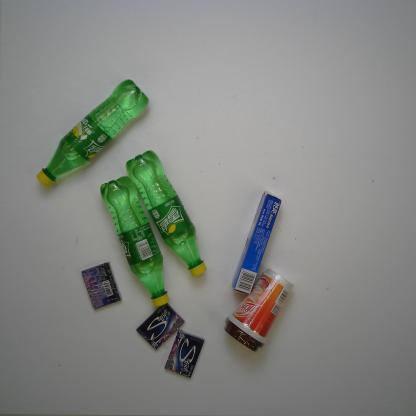Drink: (34, 78, 152, 192), (125, 148, 208, 281), (99, 174, 171, 310)
Gum: (136, 302, 186, 350), (162, 330, 206, 380), (82, 262, 122, 311)
Instant Drink: (224, 266, 295, 353)
Personal Hygiene: (229, 190, 284, 296)
